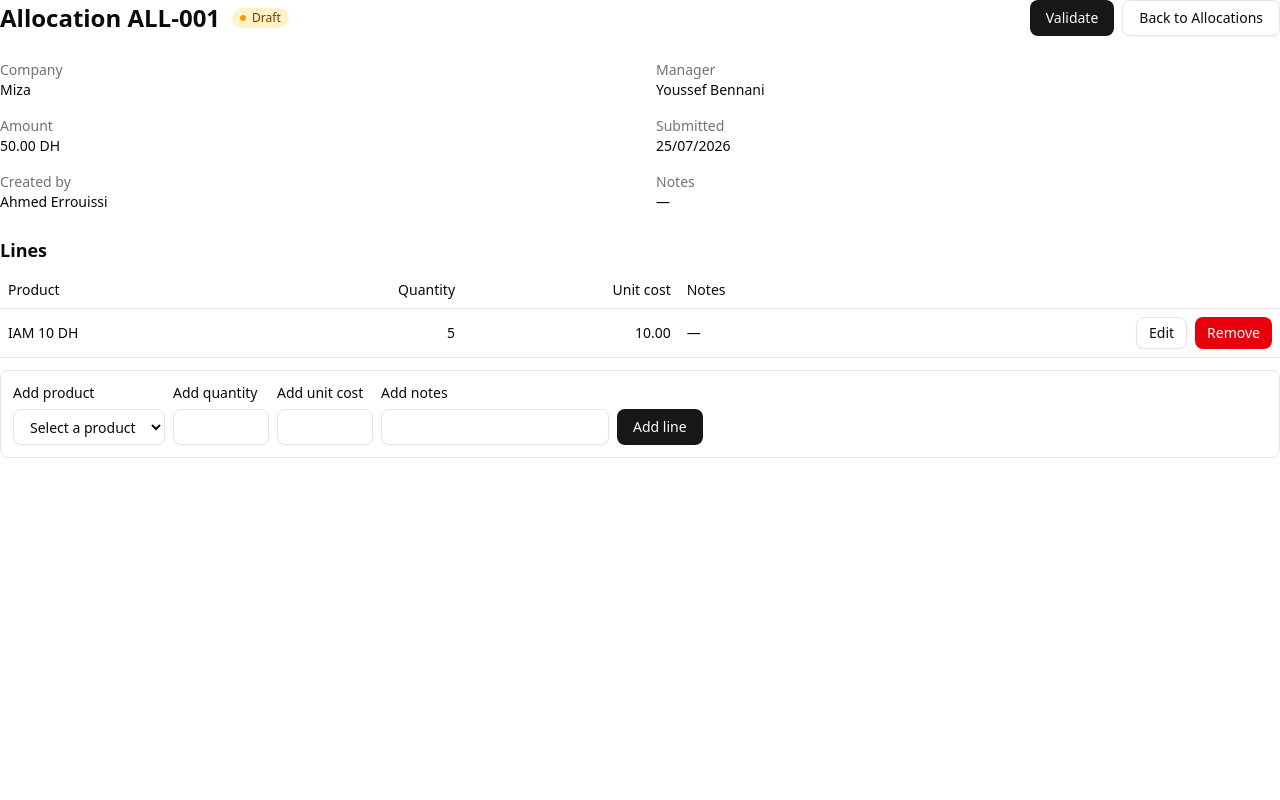
Validate — freshness rule (M4 · G4 closure) and error codes › blocks confirm when the fresh read shows the allocation already processed
Click the button "Validate" at (1072, 18), box [1030,0,1114,36]
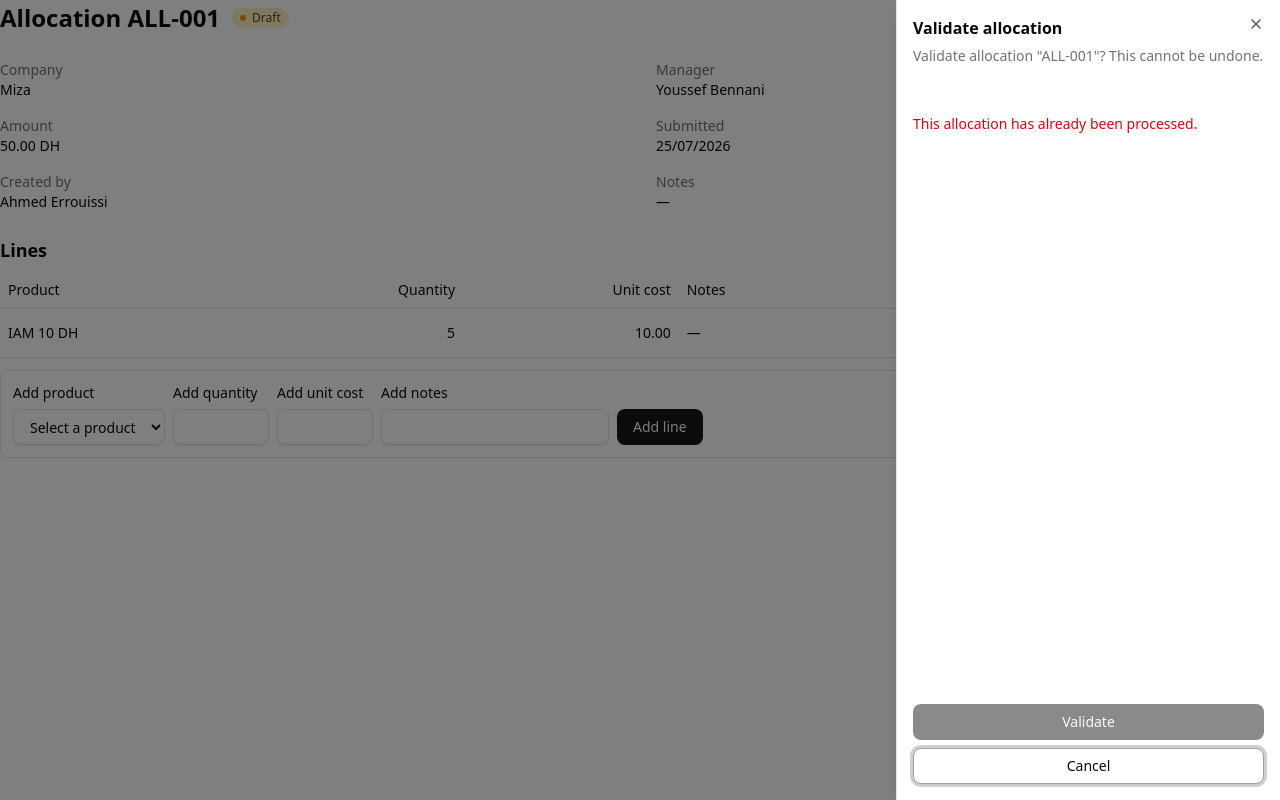
Expected: the text "This allocation has already been processed." is shown, [913,114,1198,133]
Expected: the button "Validate" is disabled, [913,704,1264,740]
